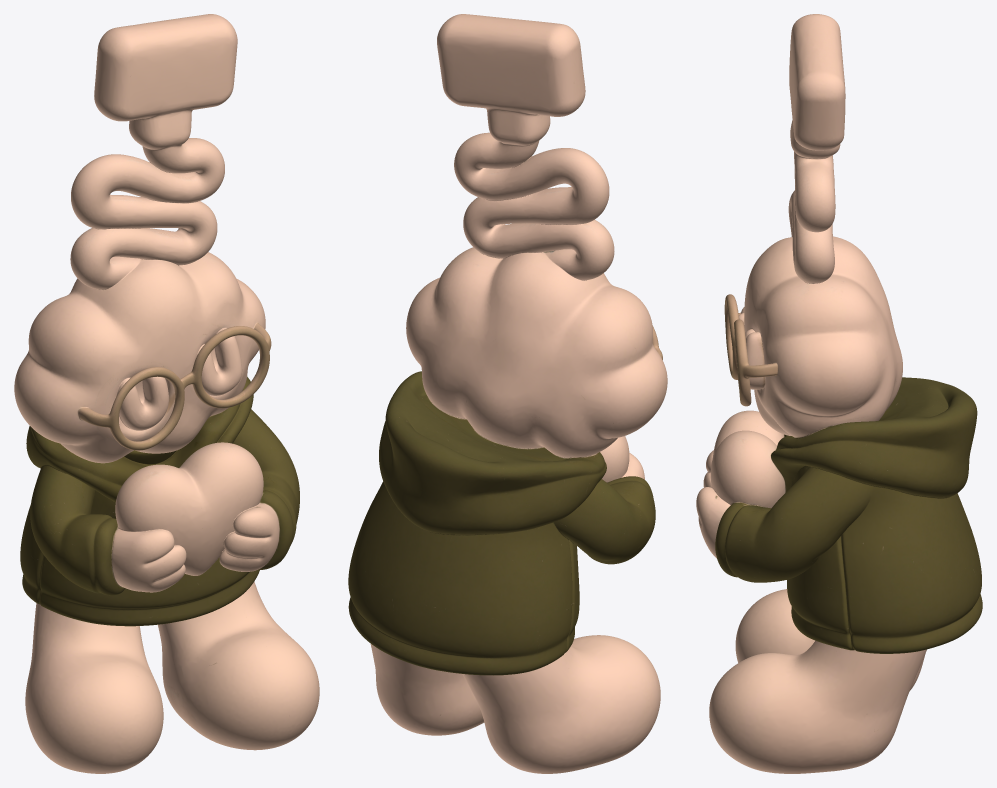
Rendered from 3ddtr3s modelo .glb.
The picture shows the model from 3 angles, left to right: view 1: azimuth 30°, elevation 25°; view 2: azimuth 150°, elevation 25°; view 3: azimuth 270°, elevation 25°; orthographic projection. The views are drawn at different scales.
Bounding box in the file's own units: 0.7517 × 1.9 × 0.7186.
Materials: 1 (1 with a texture image).
